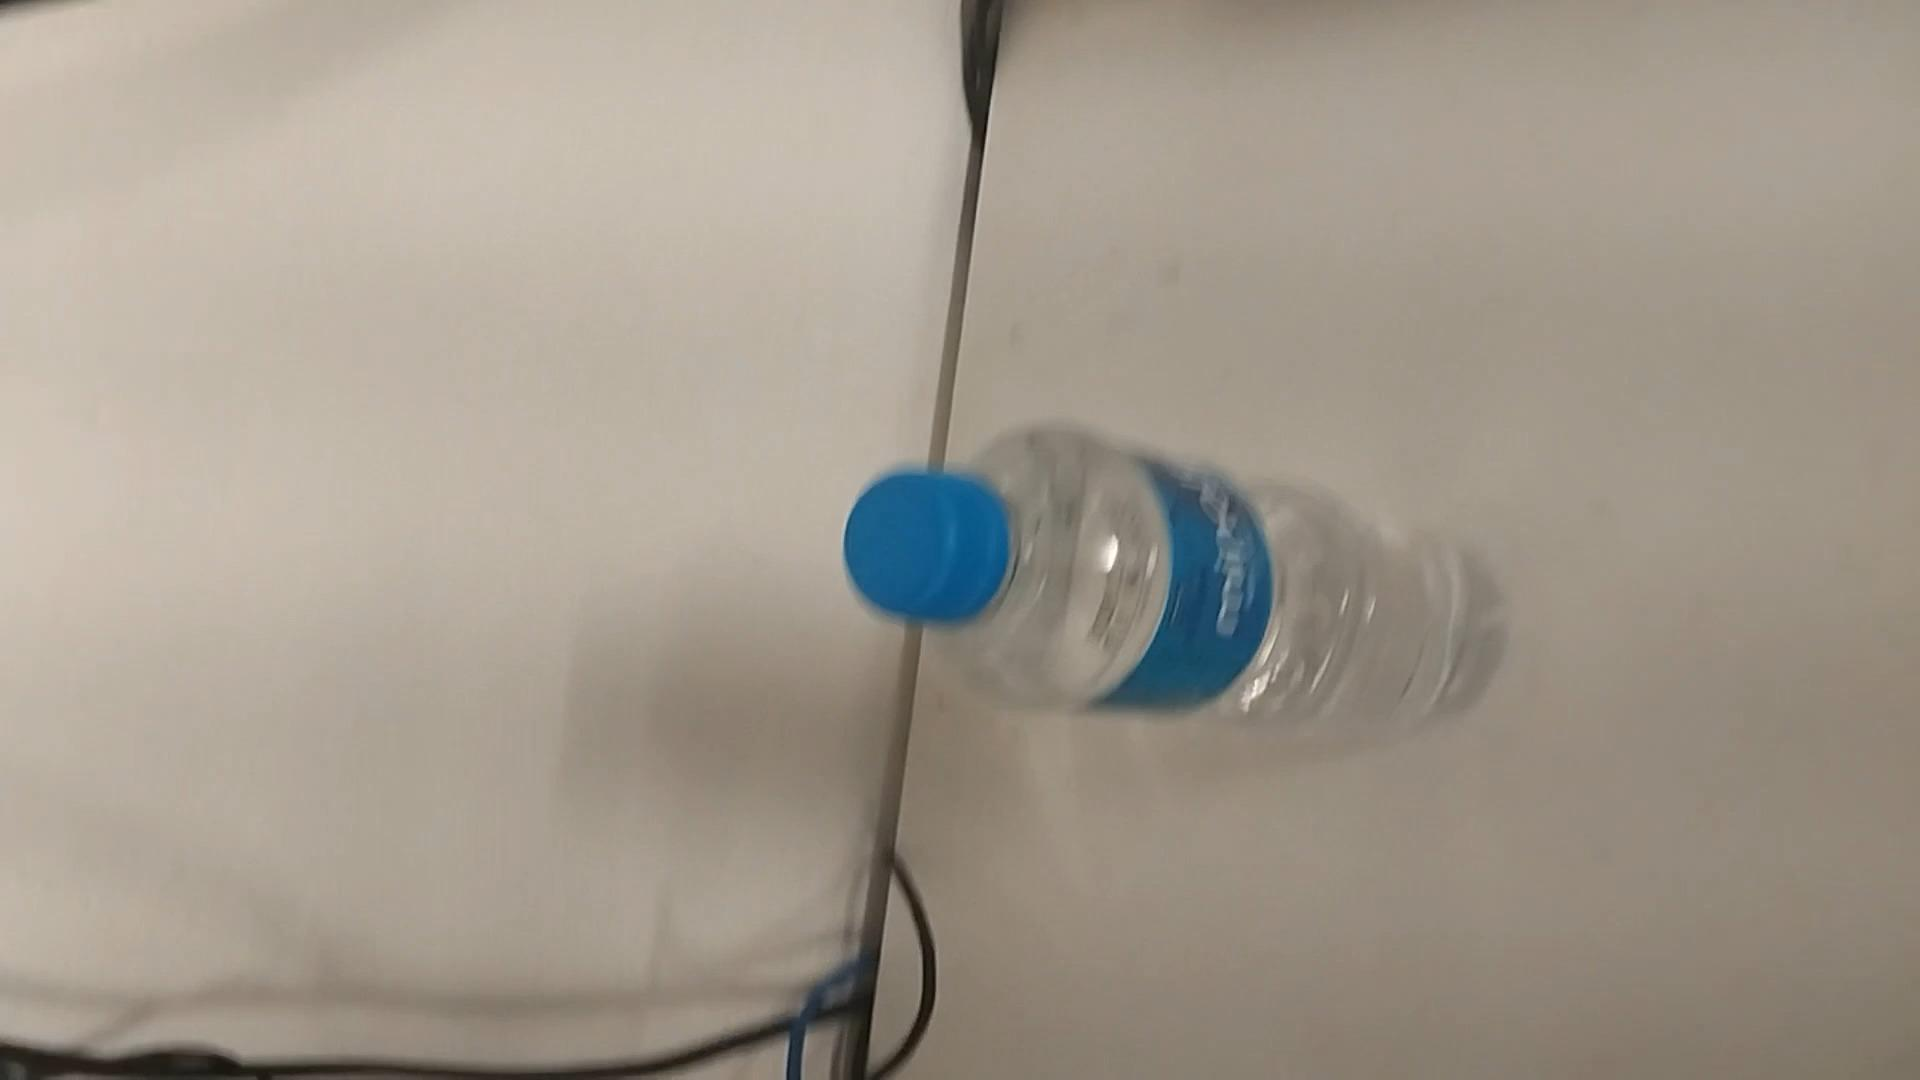agua: (840, 426, 1477, 736)
